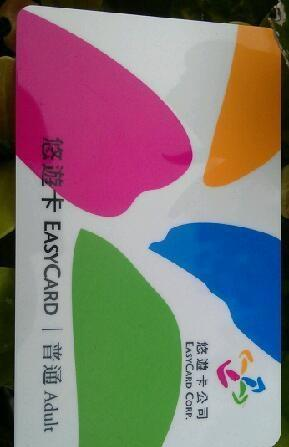Taiwan_EasyCard: (7, 6, 282, 440)
